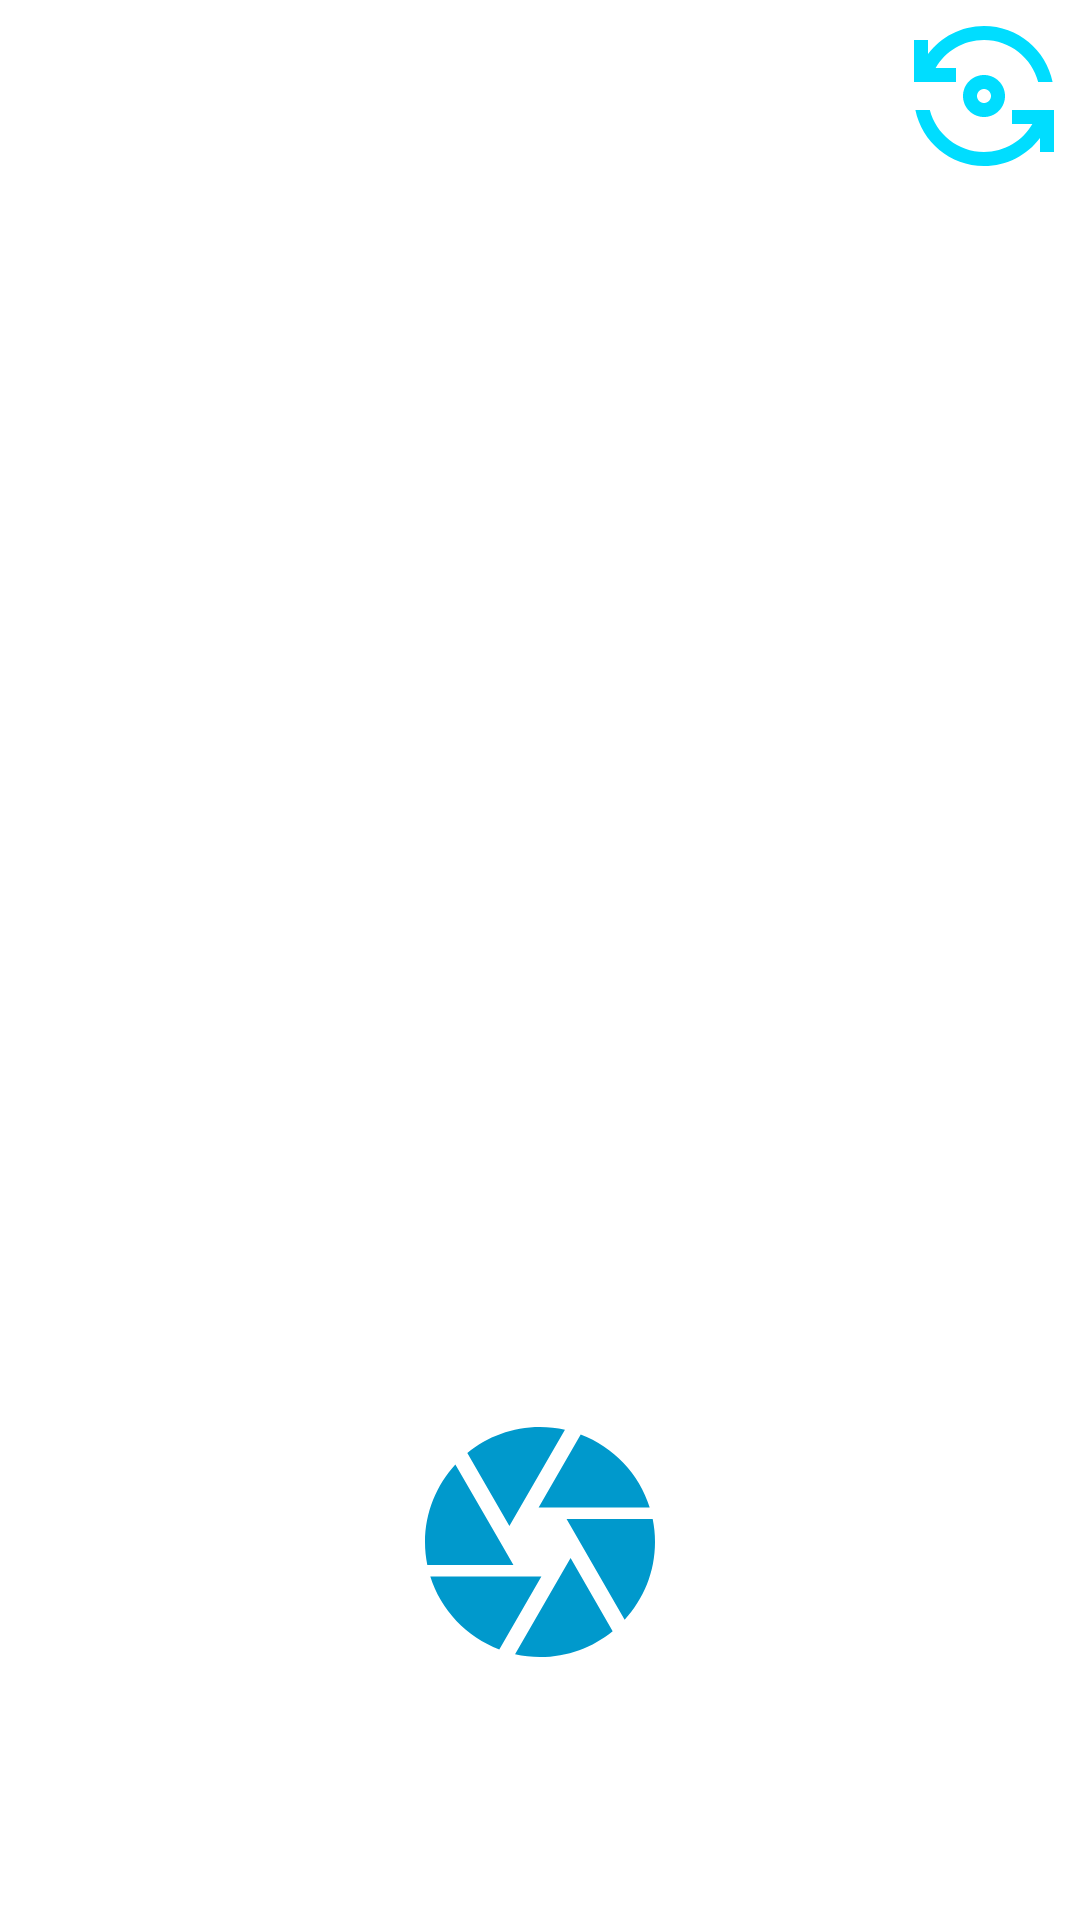

Icons on this 1080px×1920px Android screen, each with the point to tap as (x=x, y=y):
camera flip: (x=984, y=96)
camera shutter: (x=540, y=1542)
